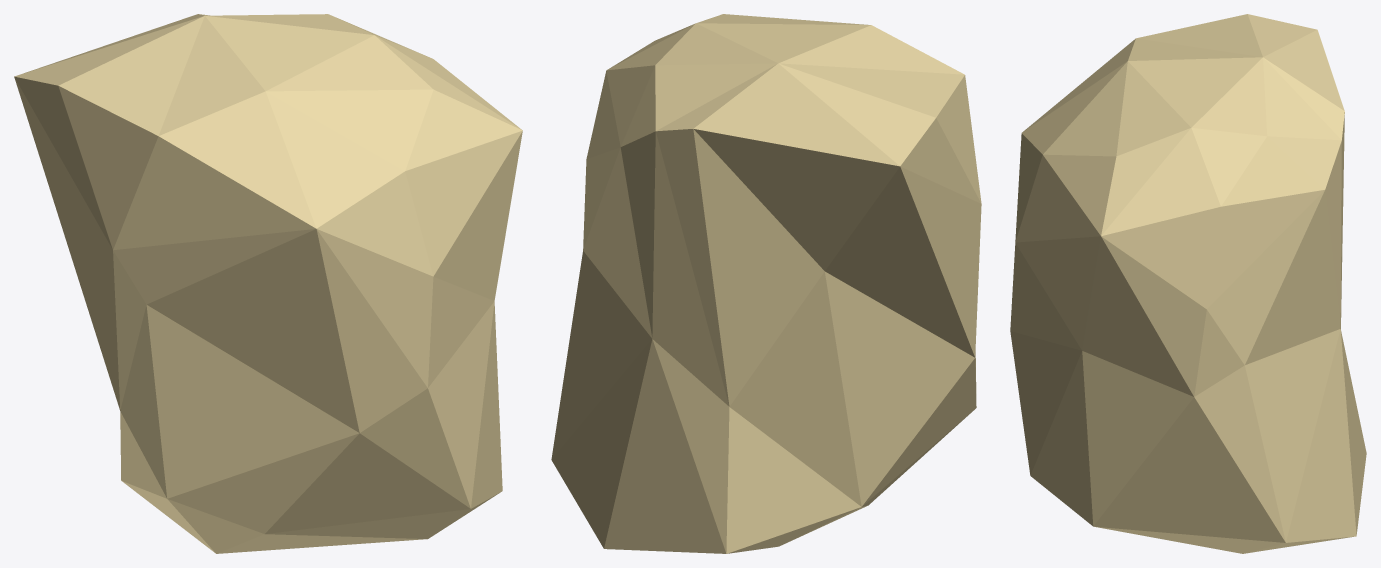
The model's file is Rock (20).fbx.
3 views of the same model, side by side, from view 1: azimuth 30°, elevation 25°; view 2: azimuth 150°, elevation 25°; view 3: azimuth 270°, elevation 25° (orthographic). The views are drawn at different scales.
Visible parts, largest first — view 1: Asteroid19; view 2: Asteroid19; view 3: Asteroid19.
Boxes of the visible parts, x1,y1,x2,y2 form: Asteroid19: (14, 14, 522, 553); Asteroid19: (551, 14, 981, 553); Asteroid19: (1010, 14, 1366, 553).
Size of the model in its own units: 190 by 235 by 172.
